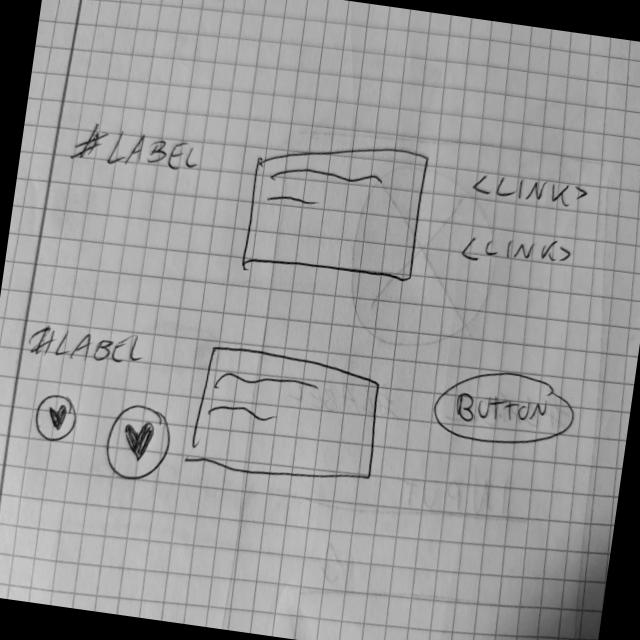button: (427, 357, 583, 464)
icon-button: (102, 400, 178, 491), (29, 390, 87, 451)
label: (69, 121, 204, 184), (29, 321, 150, 376)
link: (458, 224, 580, 281), (469, 165, 594, 217)
textarea: (235, 128, 436, 296), (187, 339, 392, 498)
